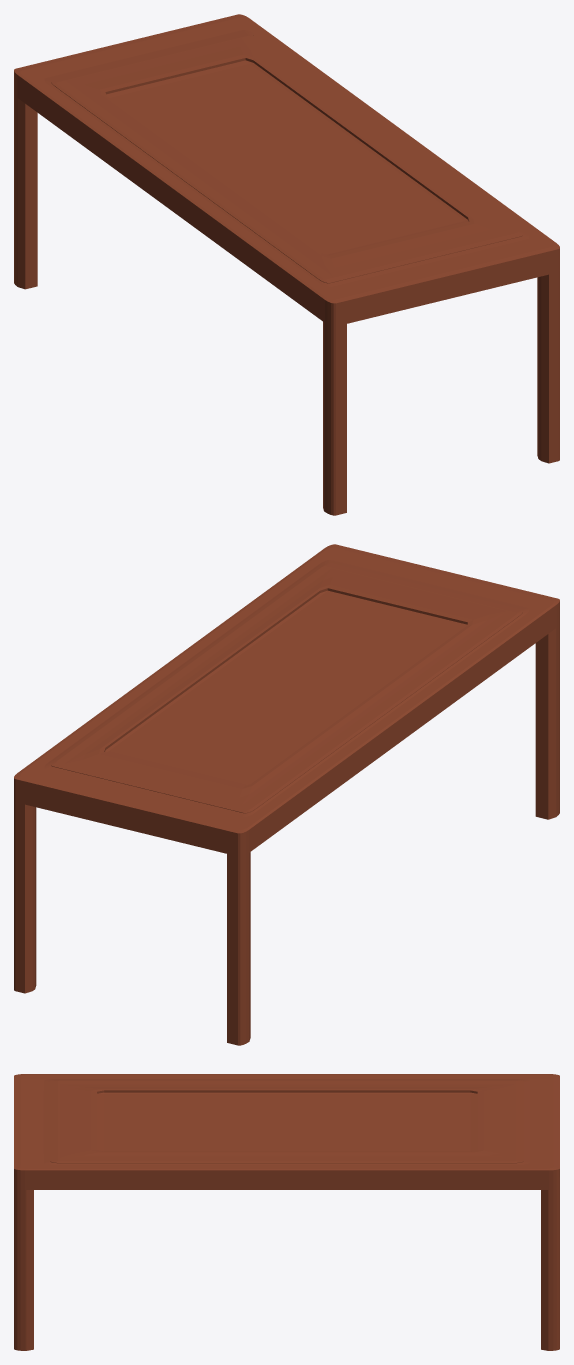
File: table.fbx
3 views of the same model, one above another, from view 1: azimuth 30°, elevation 25°; view 2: azimuth 150°, elevation 25°; view 3: azimuth 270°, elevation 25° (orthographic). The views are drawn at different scales.
Visible parts, largest first — view 1: Cube; view 2: Cube; view 3: Cube.
Boxes of the visible parts, box(x1,y1,x2,y2) form: Cube: box(14, 14, 559, 515); Cube: box(14, 544, 559, 1045); Cube: box(14, 1074, 559, 1350).
Size of the model in its own units: 289 by 256 by 693.
